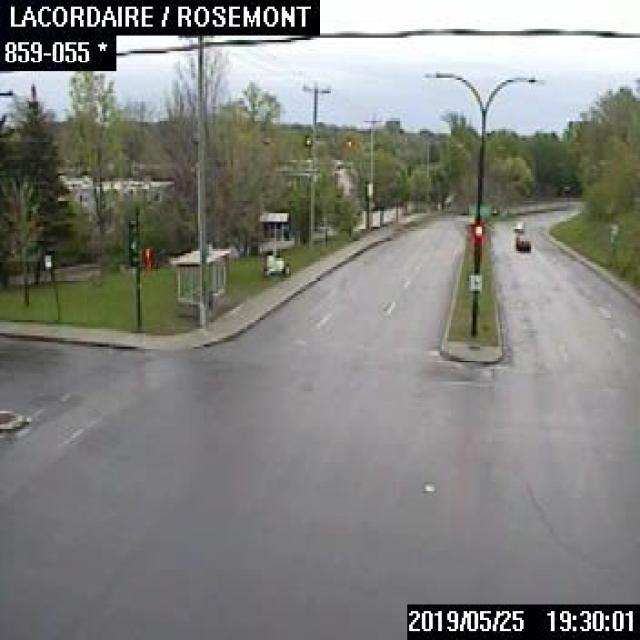construction: (259, 210, 288, 276)
vehicle: (514, 234, 530, 249), (510, 218, 523, 231)
